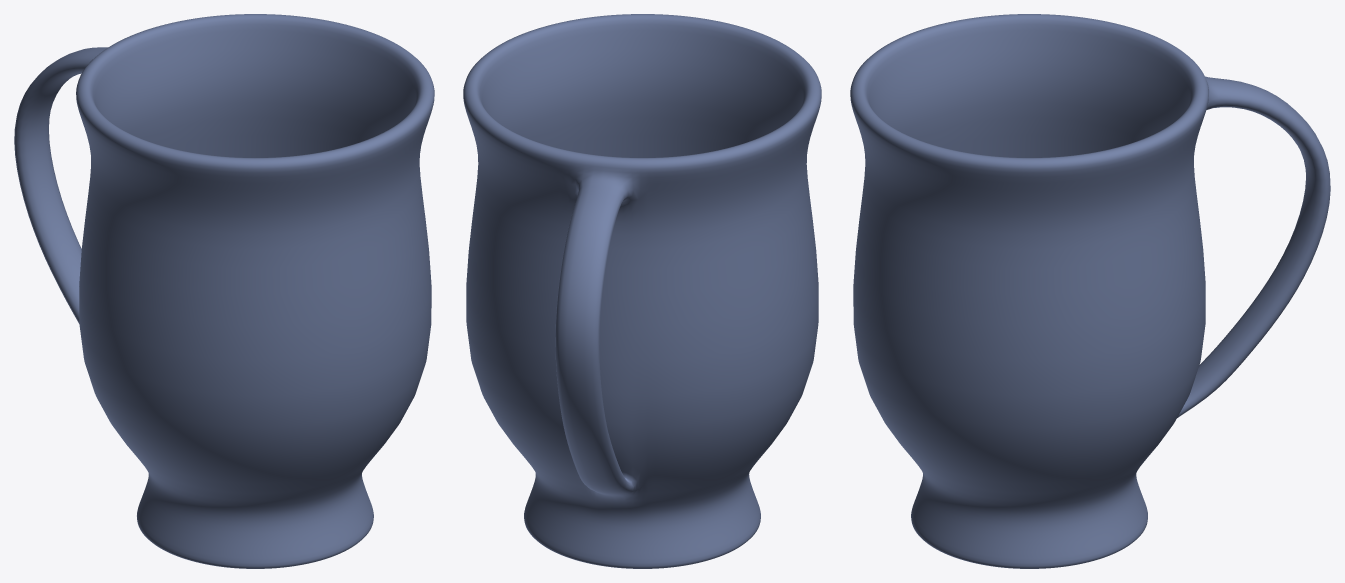
Rendered from single-products-mug.glb.
The picture shows the model from 3 angles, left to right: view 1: azimuth 30°, elevation 25°; view 2: azimuth 150°, elevation 25°; view 3: azimuth 270°, elevation 25°; orthographic projection.
Visible parts, largest first — view 1: Circle.002; view 2: Circle.002; view 3: Circle.002.
Boxes of the visible parts, x1,y1,x2,y2 form: Circle.002: (14,14,434,568); Circle.002: (463,14,821,568); Circle.002: (850,14,1330,568).
Size of the model in its own units: 0.0789 by 0.1053 by 0.1057.
